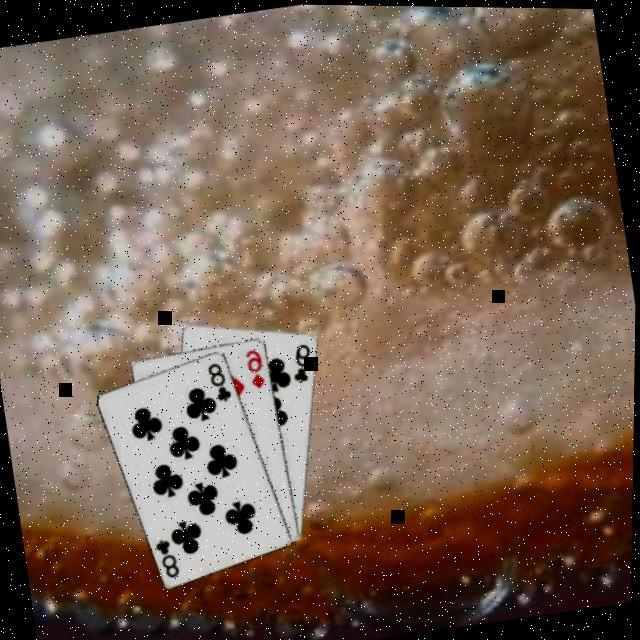6D: (242, 343, 269, 389)
8C: (203, 355, 235, 403), (152, 531, 184, 579)
9C: (286, 336, 320, 384)
